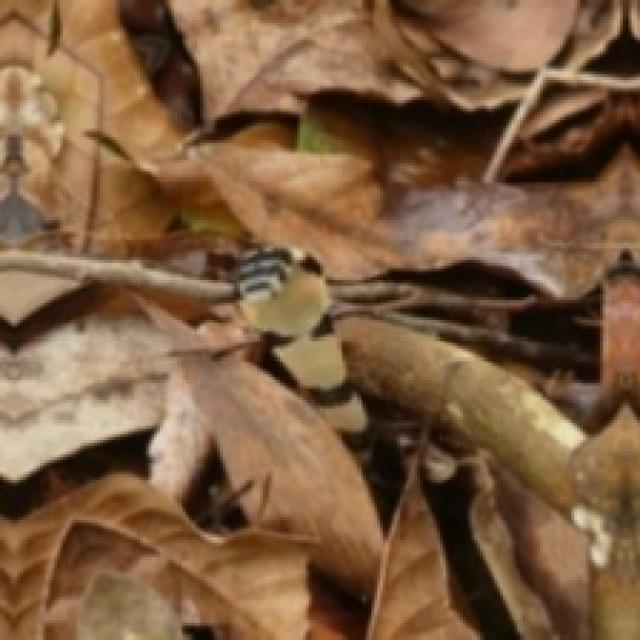king cobra: (238, 249, 428, 484)
